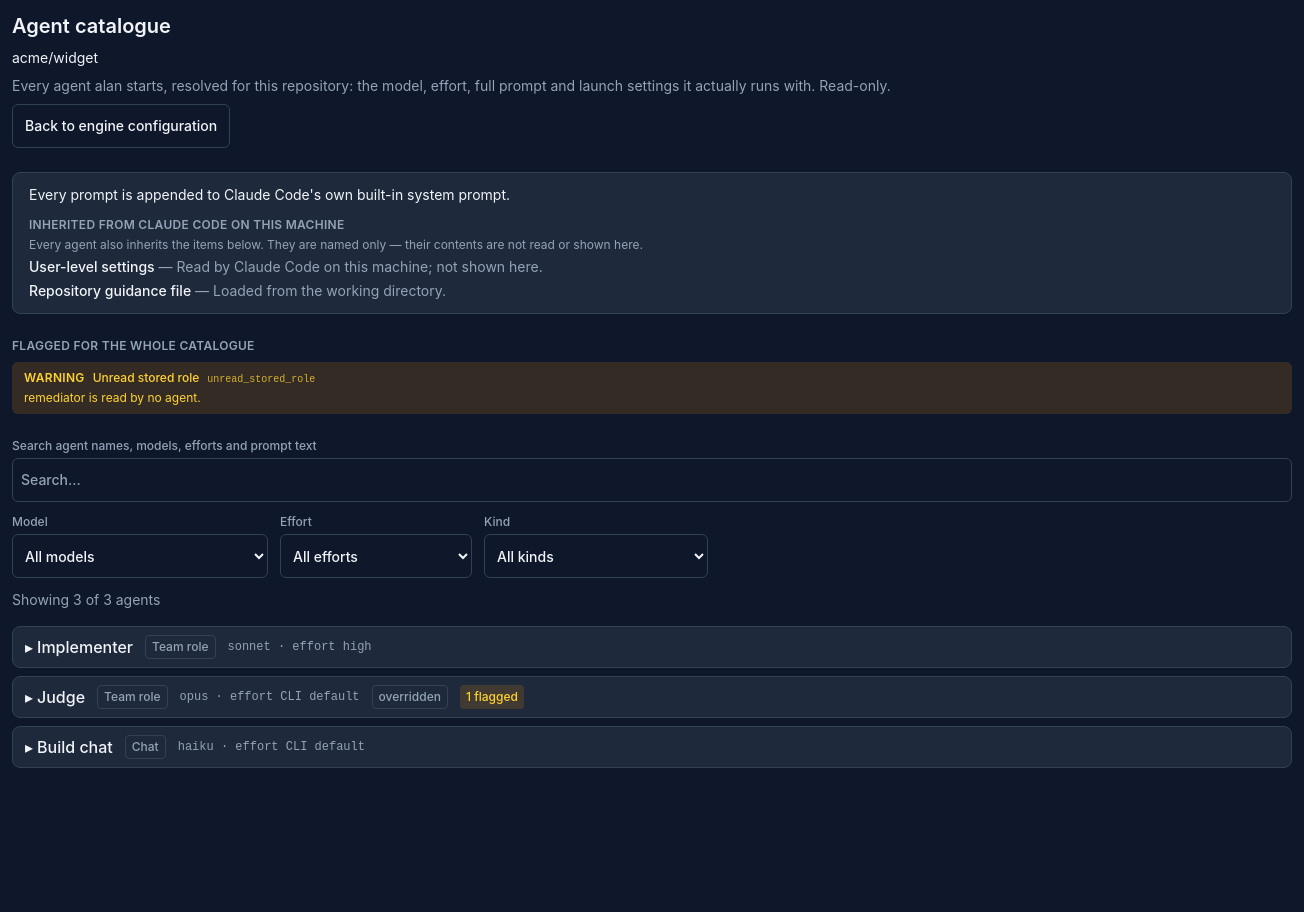
RepoAgents — list, search and filters › shows a no-match state with a clear action that restores the full list
This screenshot has width=1304, height=912.
Expected: the list with test id "repo-agents-list" is shown, left=12, top=626, right=1292, bottom=768
Type "zzz-nothing" into the search field with test id "agent-search-input" at (652, 480), box left=12, top=458, right=1292, bottom=502
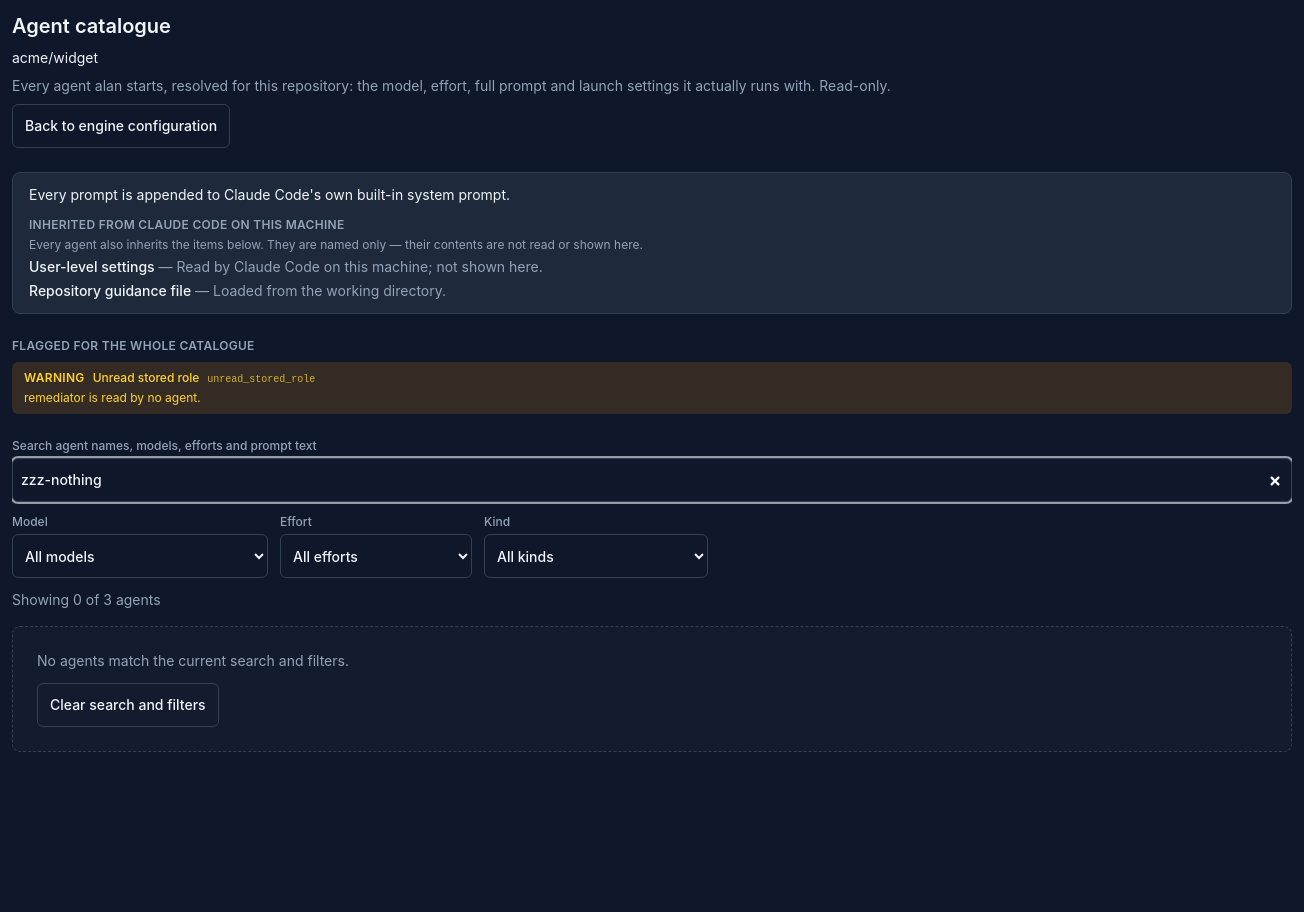
Expected: the element with test id "repo-agents-no-match" is shown, left=12, top=626, right=1292, bottom=752
Expected: the list with test id "repo-agents-list" is gone
Expected: the message with test id "agent-search-count" reads "Showing 0 of 3 agents", left=12, top=591, right=161, bottom=608
Click the button with test id "repo-agents-clear" at (128, 705), box left=37, top=683, right=219, bottom=727
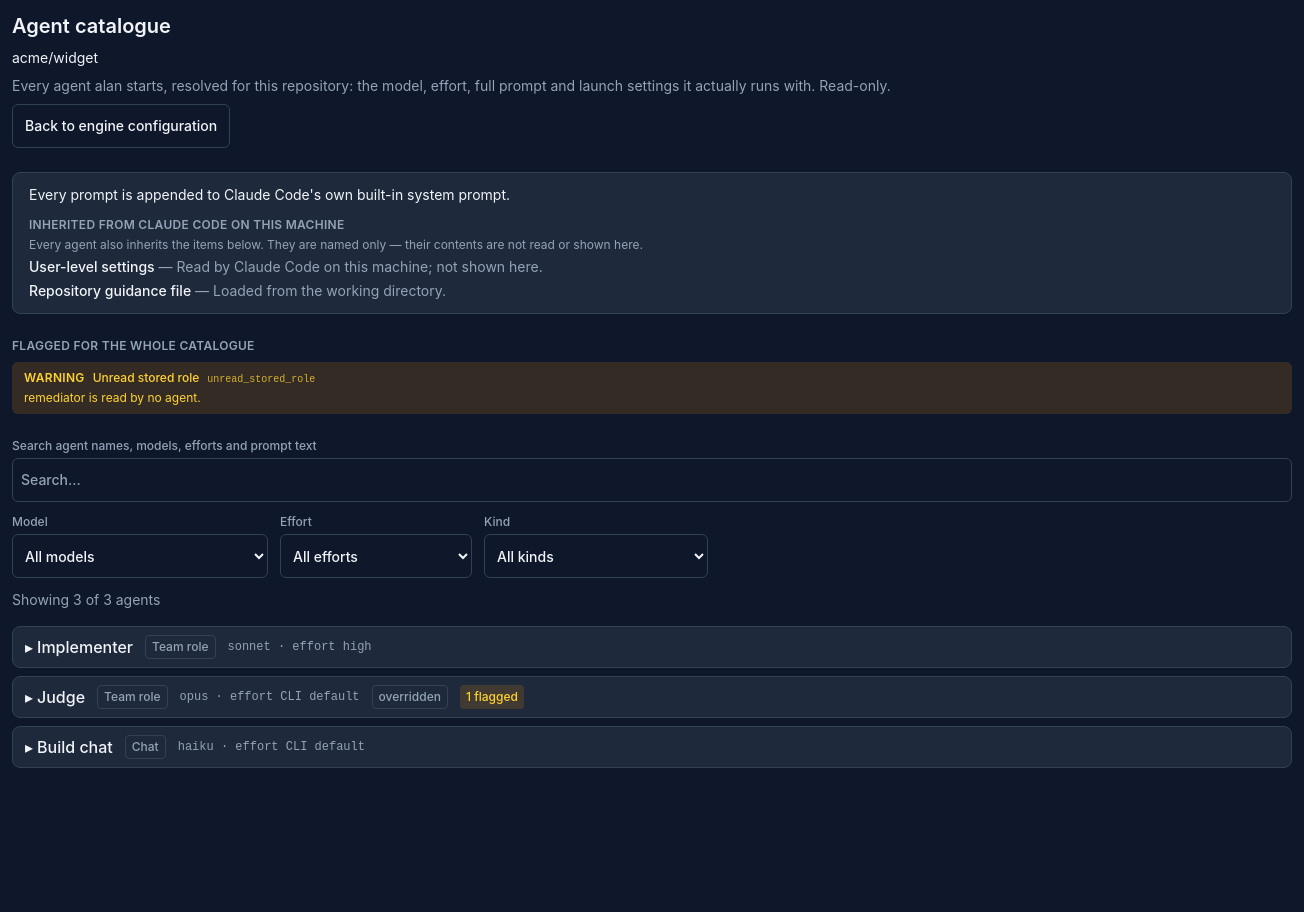
Expected: the search field with test id "agent-search-input" is empty, left=12, top=458, right=1292, bottom=502
